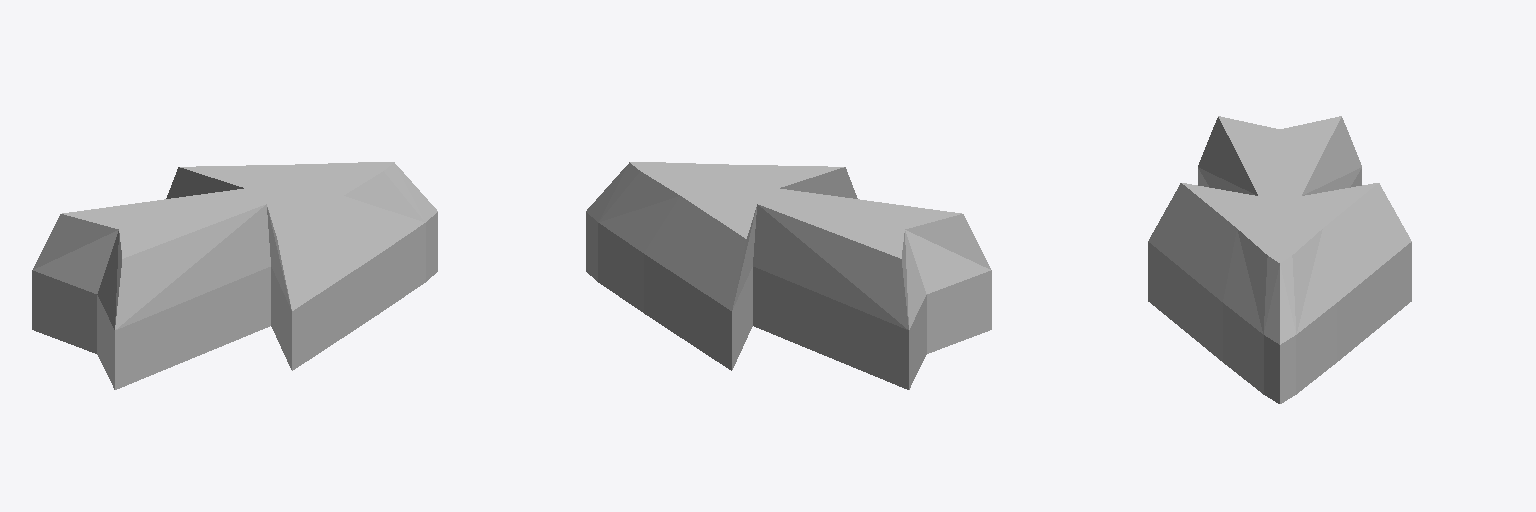
The model's file is arrow.obj.
3 views of the same model, side by side, from view 1: azimuth 30°, elevation 25°; view 2: azimuth 150°, elevation 25°; view 3: azimuth 270°, elevation 25° (orthographic).
Parts seen in each view (by area): view 1: Cylinder02; view 2: Cylinder02; view 3: Cylinder02.
Part boxes in pixels (x1,y1,x2,y2): Cylinder02: (32, 162, 437, 389); Cylinder02: (586, 162, 991, 389); Cylinder02: (1148, 116, 1411, 403).
Size of the model in its own units: 1.6 by 0.5 by 1.